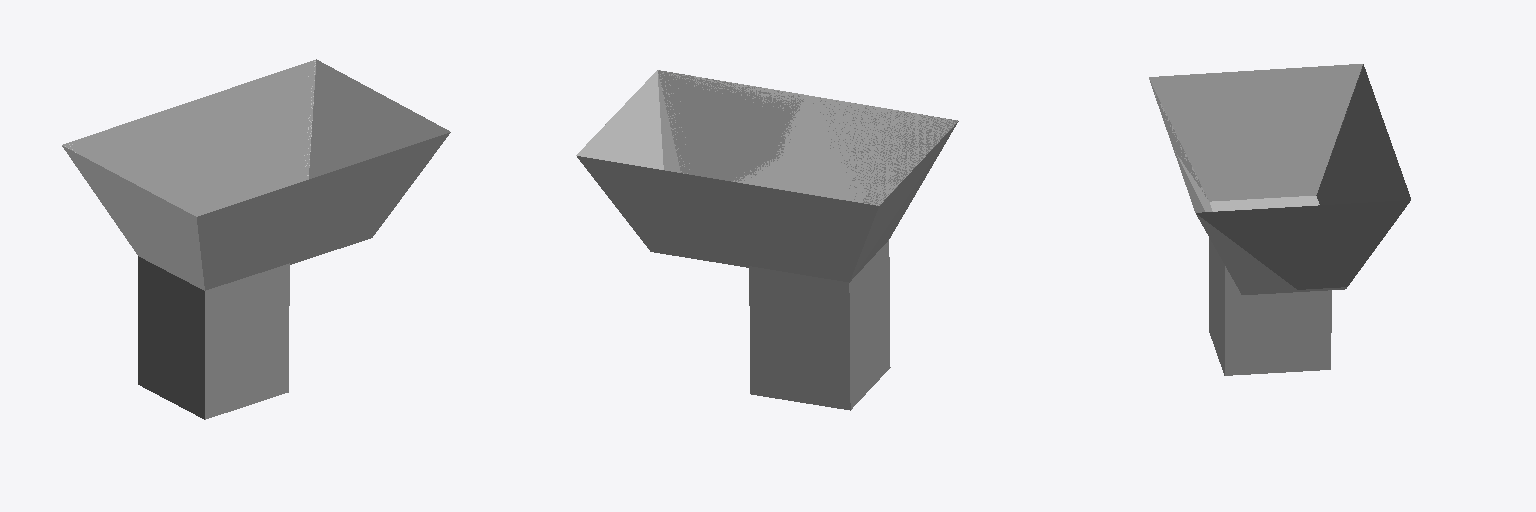
Rendered from viscliff3b.obj.
3 renders of one model, left to right at view 1: azimuth 30°, elevation 25°; view 2: azimuth 150°, elevation 25°; view 3: azimuth 270°, elevation 25°, orthographic.
Visible parts, largest first — view 1: virArena, RealArena; view 2: virArena, RealArena, Arena; view 3: virArena, RealArena, Arena.
Boxes of the visible parts, <box> form: virArena: <box>62,60,424,419</box>; RealArena: <box>62,59,450,290</box>; virArena: <box>605,70,957,410</box>; RealArena: <box>576,71,958,282</box>; Arena: <box>658,70,957,205</box>; virArena: <box>1149,64,1410,375</box>; RealArena: <box>1196,208,1396,294</box>; Arena: <box>1149,69,1361,211</box>.
Size of the model in its own units: 1.64 by 1.21 by 1.22.